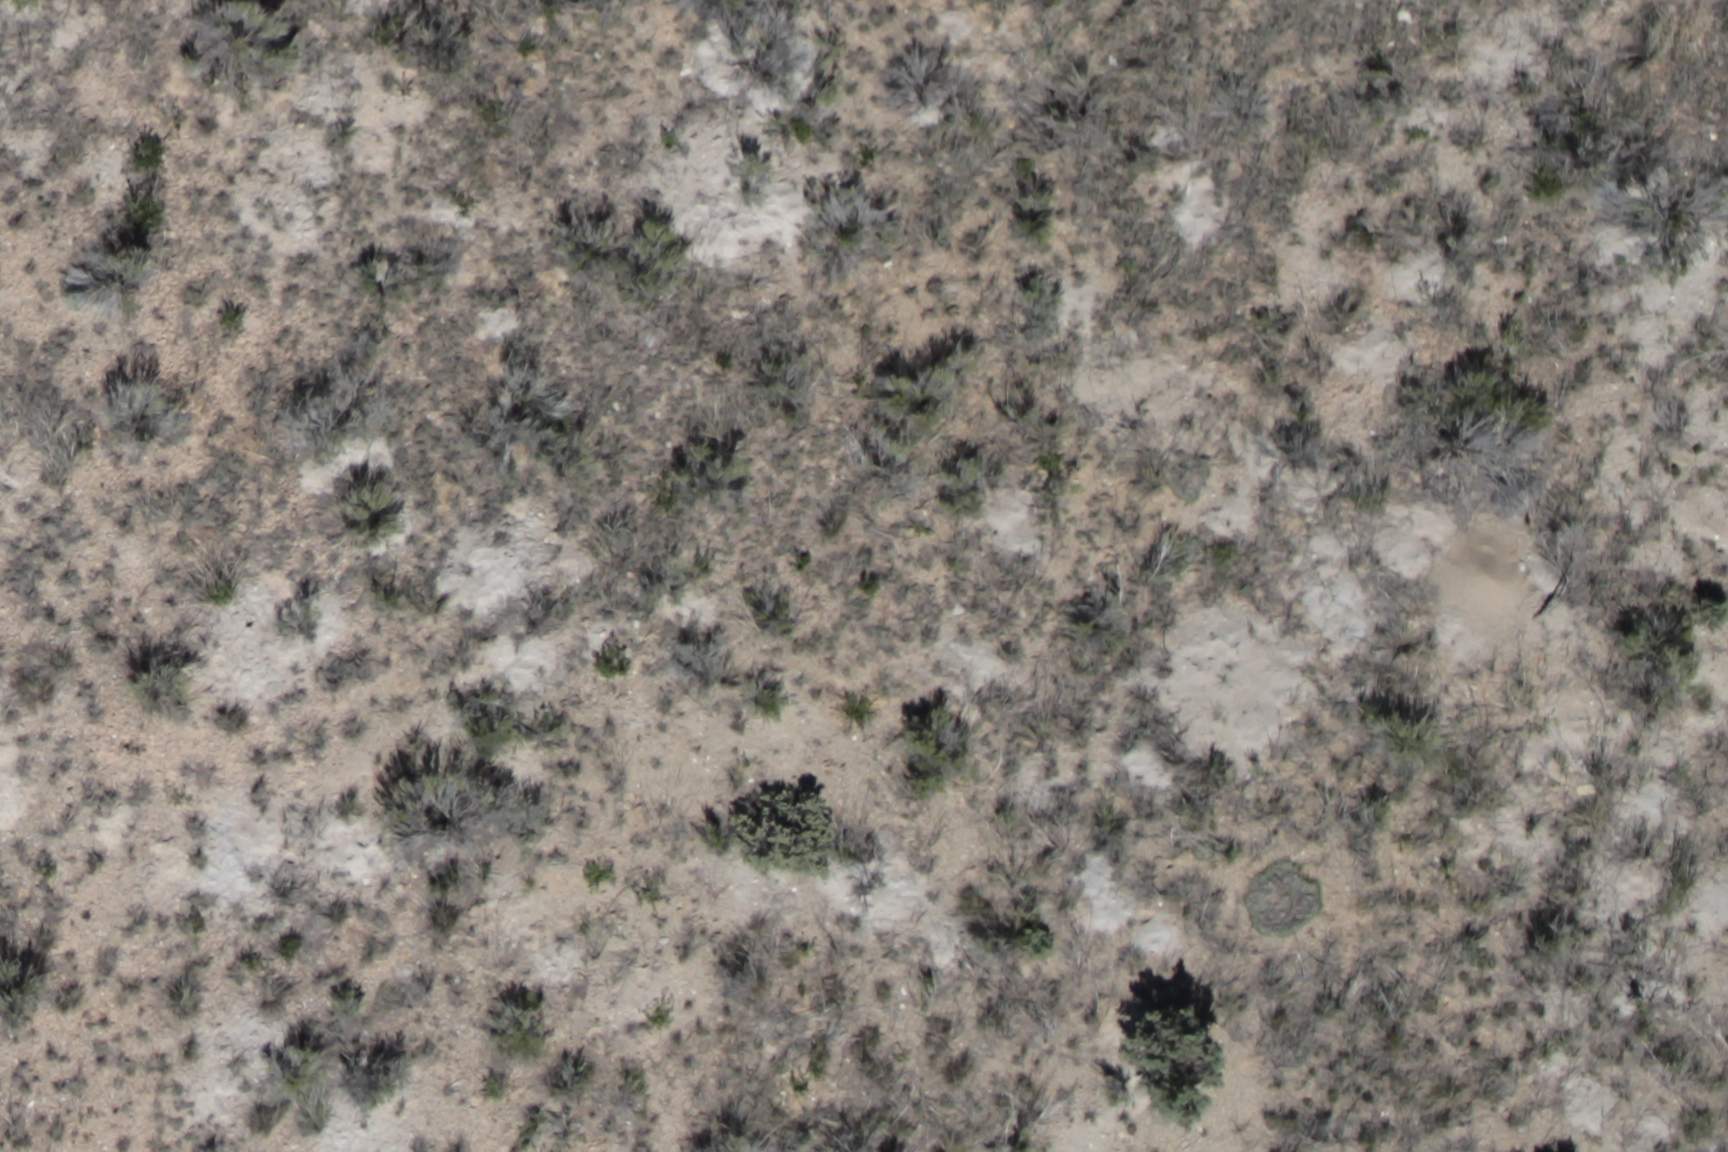burrow: (1416, 519, 1544, 630)
